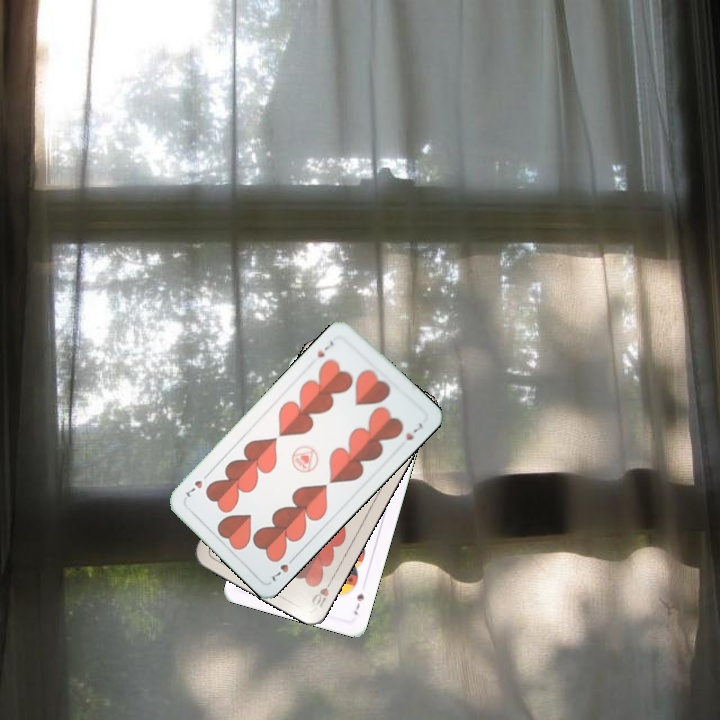H10: (307, 573, 336, 610)
H7: (267, 552, 298, 584), (313, 337, 336, 360)
S7: (350, 590, 367, 618)
